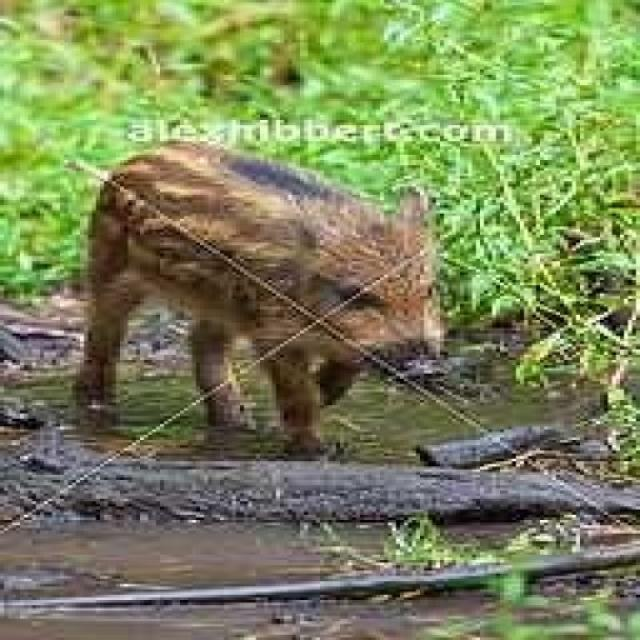pig: (81, 86, 466, 475)
